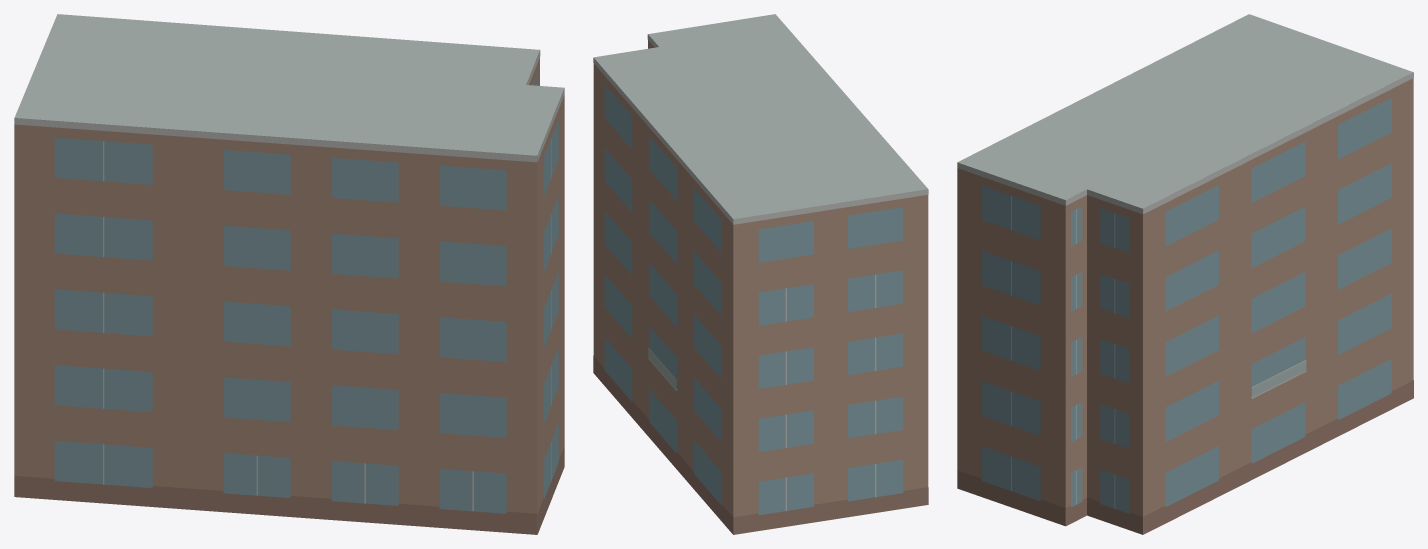
File: survey-upis-32991600.glb
3 views of the same model, side by side, from view 1: azimuth 30°, elevation 25°; view 2: azimuth 150°, elevation 25°; view 3: azimuth 270°, elevation 25° (orthographic). The views are drawn at different scales.
Visible parts, largest first — view 1: survey-upis-32991600.tmp; view 2: survey-upis-32991600.tmp; view 3: survey-upis-32991600.tmp.
Part boxes in pixels (box(x1,y1,x2,y2)): survey-upis-32991600.tmp: box(14, 14, 564, 534); survey-upis-32991600.tmp: box(593, 14, 928, 534); survey-upis-32991600.tmp: box(957, 14, 1413, 534).
Size of the model in its own units: 17.94 by 14 by 17.77.
